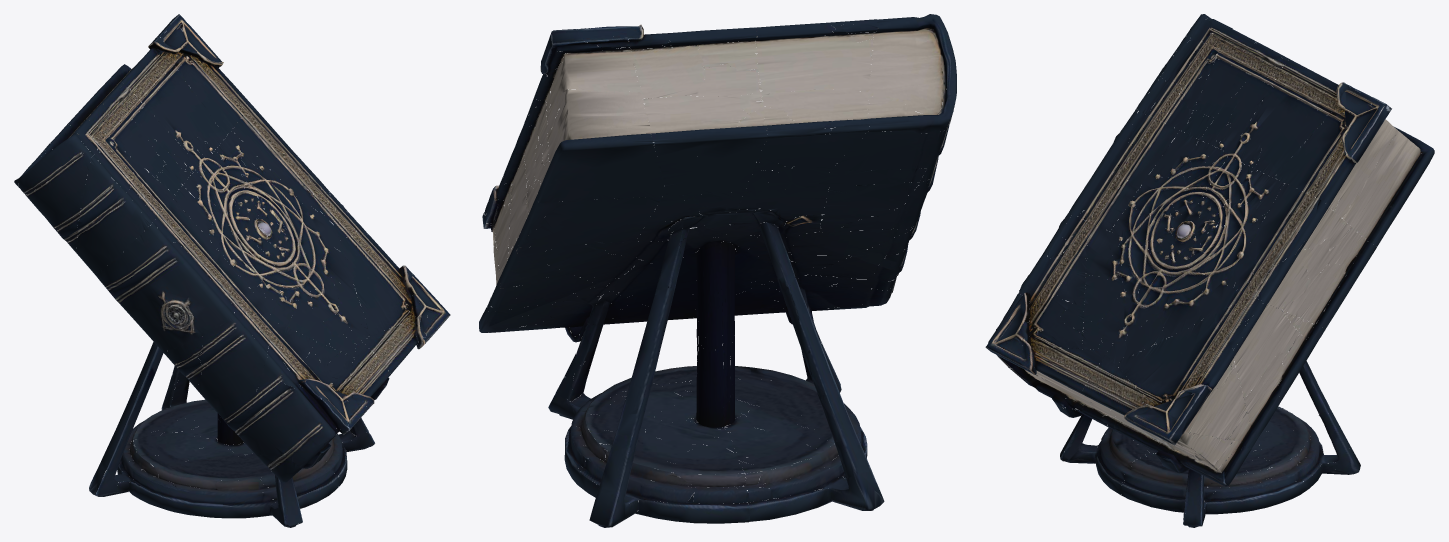
Rendered from mi-grimorio.glb.
3 renders of one model, left to right at view 1: azimuth 30°, elevation 25°; view 2: azimuth 150°, elevation 25°; view 3: azimuth 270°, elevation 25°, orthographic. The views are drawn at different scales.
Parts seen in each view (by area): view 1: tripo_node_c69aafd6-a0b1-475d-8659-02187b8fbfae; view 2: tripo_node_c69aafd6-a0b1-475d-8659-02187b8fbfae; view 3: tripo_node_c69aafd6-a0b1-475d-8659-02187b8fbfae.
Boxes of the visible parts, <box> form: tripo_node_c69aafd6-a0b1-475d-8659-02187b8fbfae: <box>14,14,450,527</box>; tripo_node_c69aafd6-a0b1-475d-8659-02187b8fbfae: <box>479,14,956,527</box>; tripo_node_c69aafd6-a0b1-475d-8659-02187b8fbfae: <box>985,14,1434,527</box>.
Size of the model in its own units: 0.9811 by 0.9063 by 0.9722.
Materials: 1 (1 with a texture image).
